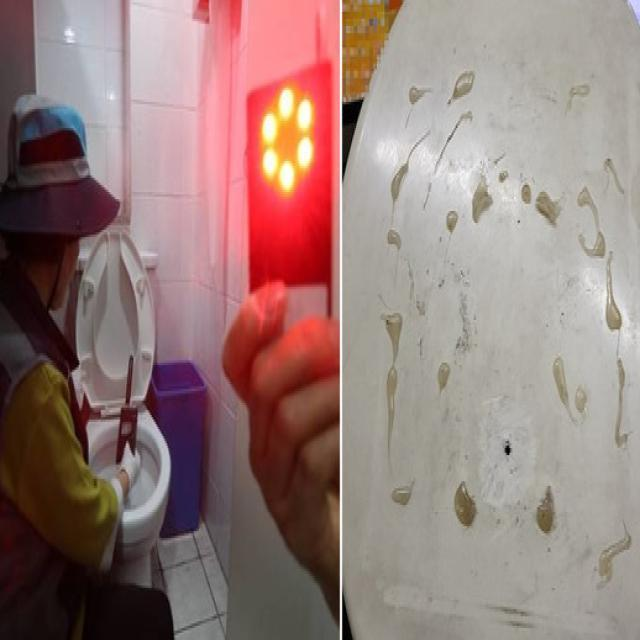hidden camera: (502, 433, 515, 464)
